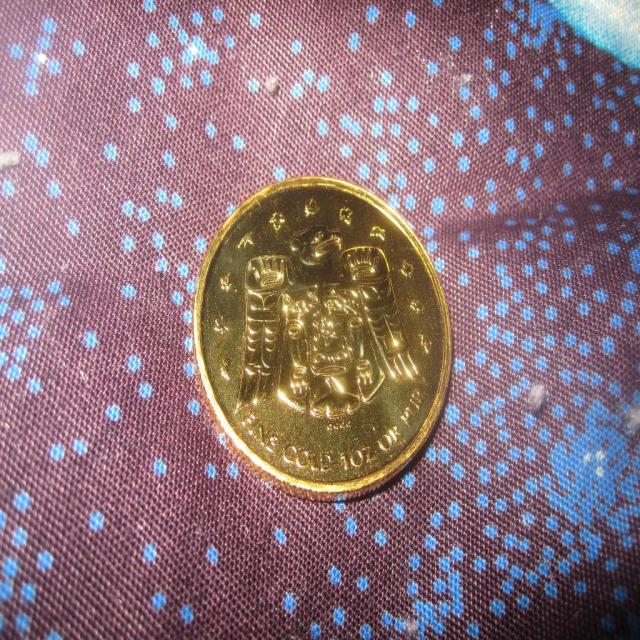Coin: (190, 173, 456, 493)
